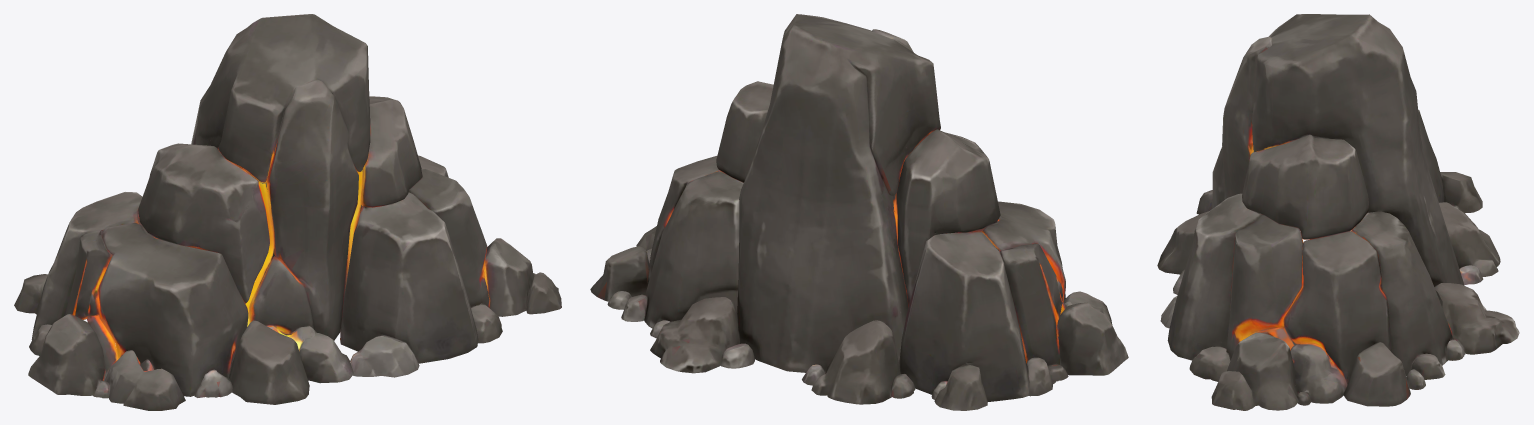
File: SM_Tripo_ZhurongBoulders.glb
The picture shows the model from 3 angles, left to right: view 1: azimuth 30°, elevation 25°; view 2: azimuth 150°, elevation 25°; view 3: azimuth 270°, elevation 25°; orthographic projection. The views are drawn at different scales.
Parts seen in each view (by area): view 1: SM_Tripo_ZhurongBoulders_LOD0; view 2: SM_Tripo_ZhurongBoulders_LOD0; view 3: SM_Tripo_ZhurongBoulders_LOD0.
Boxes of the visible parts, x1,y1,x2,y2 form: SM_Tripo_ZhurongBoulders_LOD0: [14, 14, 561, 410]; SM_Tripo_ZhurongBoulders_LOD0: [590, 14, 1128, 410]; SM_Tripo_ZhurongBoulders_LOD0: [1157, 14, 1519, 410].
Bounding box in the file's own units: 7.02 × 4 × 4.57.
1 material, 1 textured.
